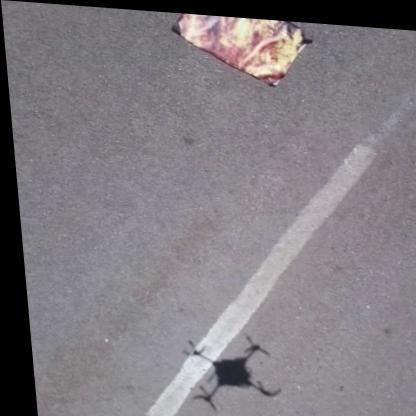fire-poster: (169, 10, 317, 86)
